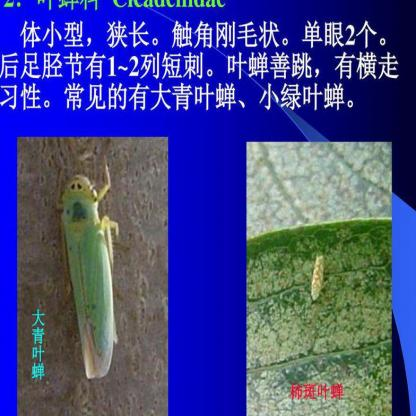Green-Leafhopper: (55, 156, 132, 380), (309, 252, 330, 308)
